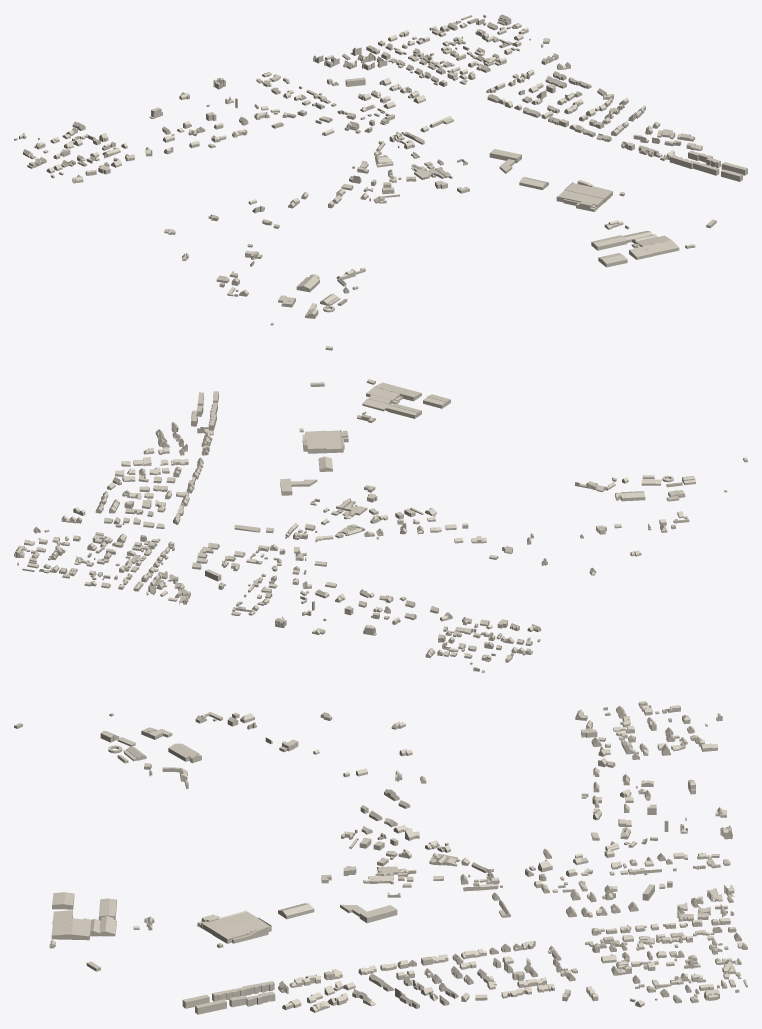
The picture shows the model from 3 angles, top to bottom: view 1: azimuth 30°, elevation 25°; view 2: azimuth 150°, elevation 25°; view 3: azimuth 270°, elevation 25°; orthographic projection. The views are drawn at different scales.
Bounding box in the file's own units: 917 × 15.39 × 915.
